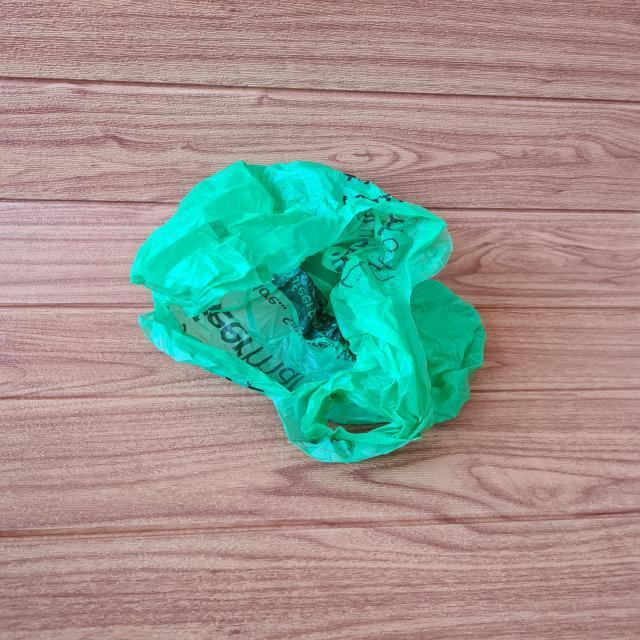Plastic_Bag: (118, 142, 532, 474)
